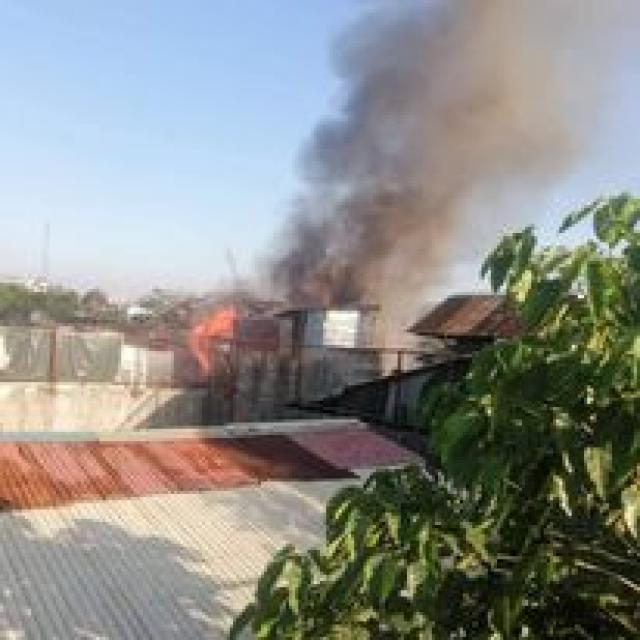Fire: (191, 309, 240, 364)
Smoke: (334, 6, 640, 178), (280, 153, 458, 294)
